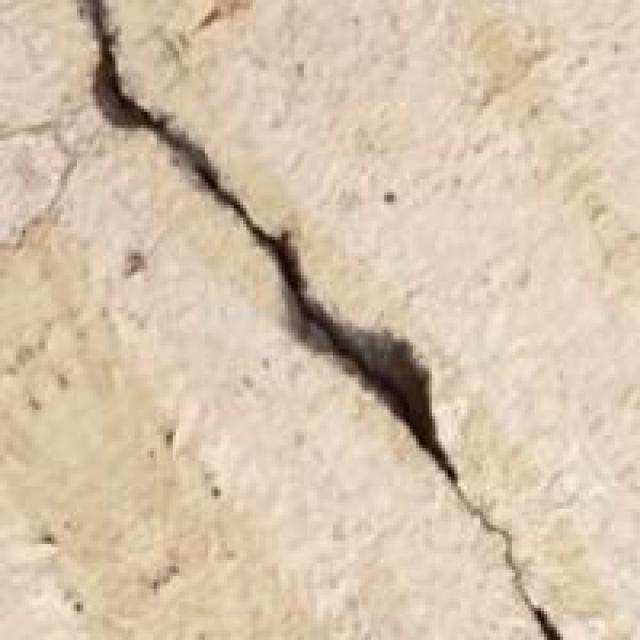crack: (58, 0, 502, 499)
